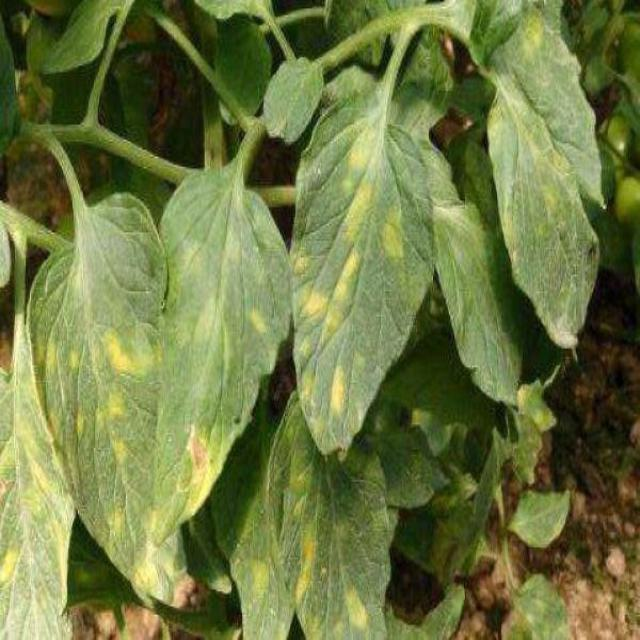Leaf_Mold: (104, 505, 202, 612), (291, 245, 360, 346), (176, 419, 234, 519), (69, 387, 135, 468), (338, 119, 378, 241), (102, 326, 165, 381), (292, 525, 319, 602), (31, 334, 79, 376), (334, 581, 372, 632), (244, 550, 273, 605), (383, 203, 410, 258), (328, 366, 351, 413), (294, 370, 320, 409), (1, 550, 22, 588), (248, 306, 268, 336)
